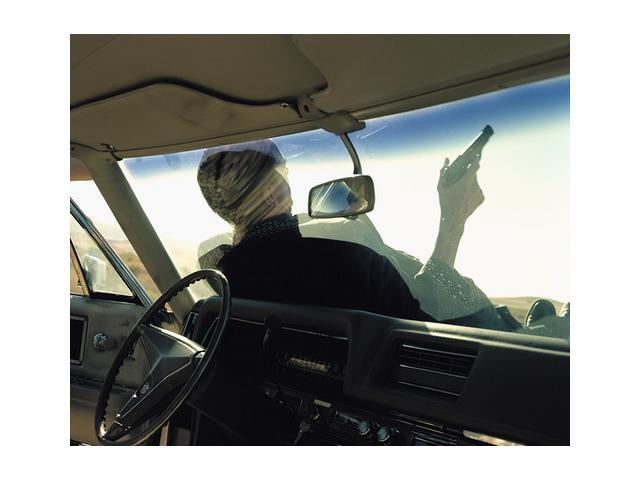pistol: (436, 123, 497, 213)
